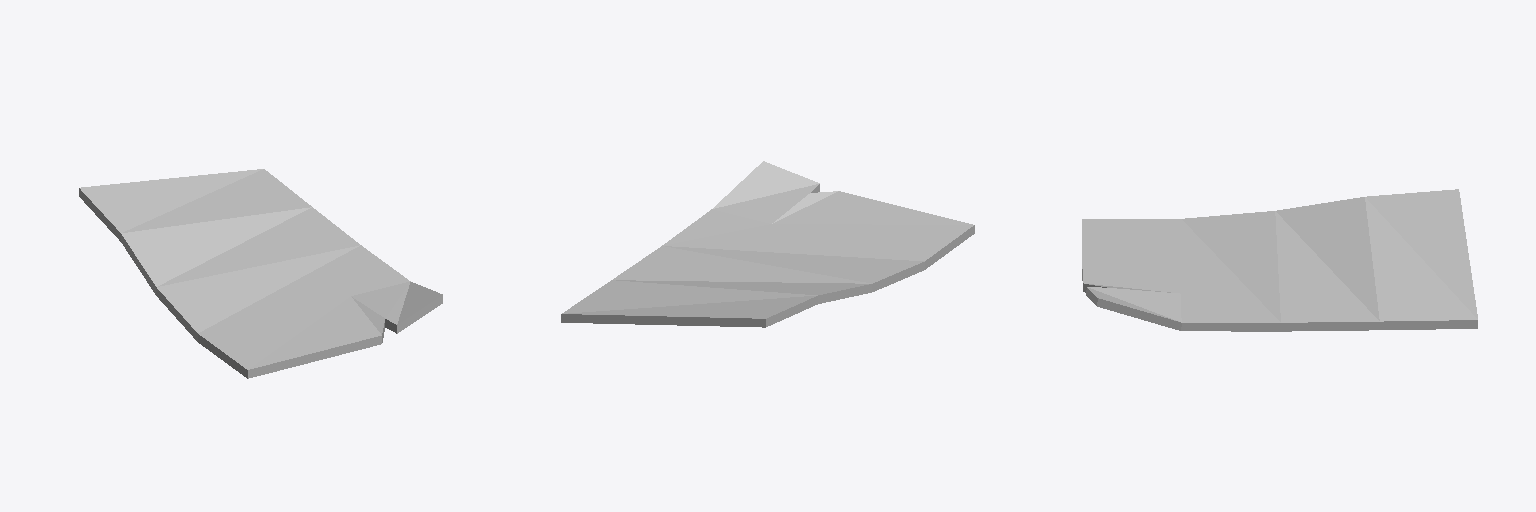
Rendered from paper.obj.
3 views of the same model, side by side, from view 1: azimuth 30°, elevation 25°; view 2: azimuth 150°, elevation 25°; view 3: azimuth 270°, elevation 25° (orthographic).
Visible parts, largest first — view 1: Plane_Plane.004; view 2: Plane_Plane.004; view 3: Plane_Plane.004.
Boxes of the visible parts, box(x1,y1,x2,y2) form: Plane_Plane.004: box(79, 169, 442, 378); Plane_Plane.004: box(561, 161, 974, 327); Plane_Plane.004: box(1082, 189, 1477, 331).
Bounding box in the file's own units: 2.02 × 0.4324 × 3.23.